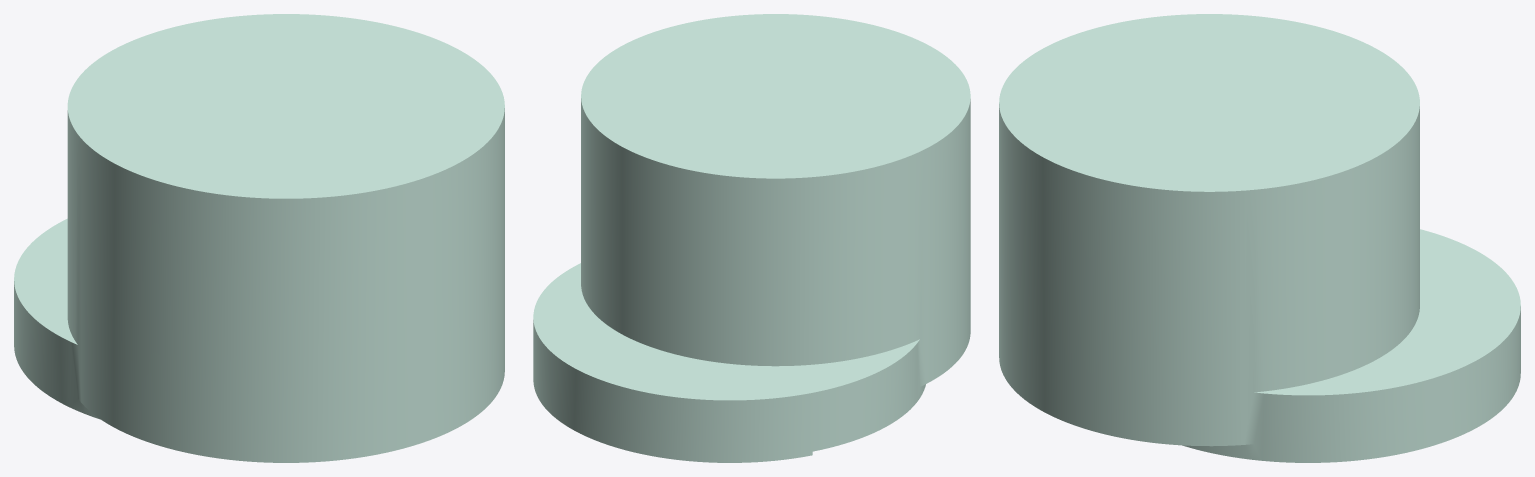
3 renders of one model, left to right at view 1: azimuth 30°, elevation 25°; view 2: azimuth 150°, elevation 25°; view 3: azimuth 270°, elevation 25°, orthographic. The views are drawn at different scales.
Parts seen in each view (by area): view 1: Renderer Node; view 2: Renderer Node; view 3: Renderer Node.
Boxes of the visible parts, x1,y1,x2,y2 form: Renderer Node: (14,14,504,462); Renderer Node: (533,14,970,462); Renderer Node: (999,14,1520,462).
Bounding box in the file's own units: 0.7579 × 0.5313 × 0.9297.
